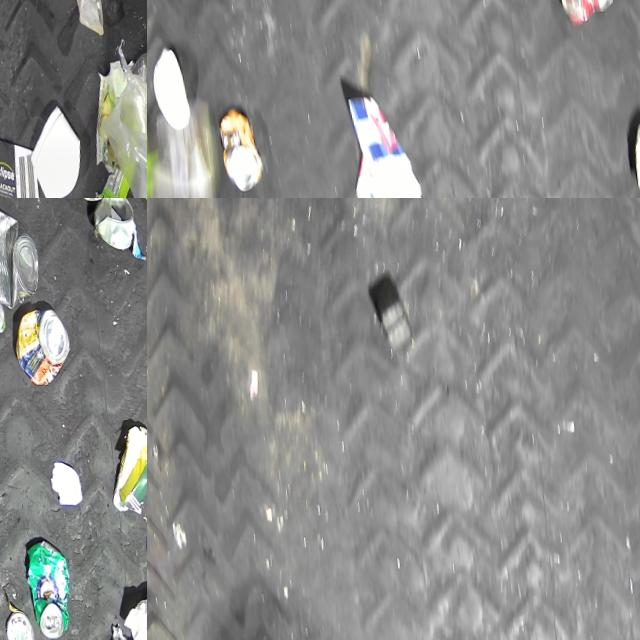can: (12, 538, 63, 639), (5, 306, 67, 384), (207, 105, 254, 192), (0, 202, 38, 307), (119, 46, 147, 132), (86, 198, 134, 245), (546, 0, 612, 24), (0, 609, 21, 640)
